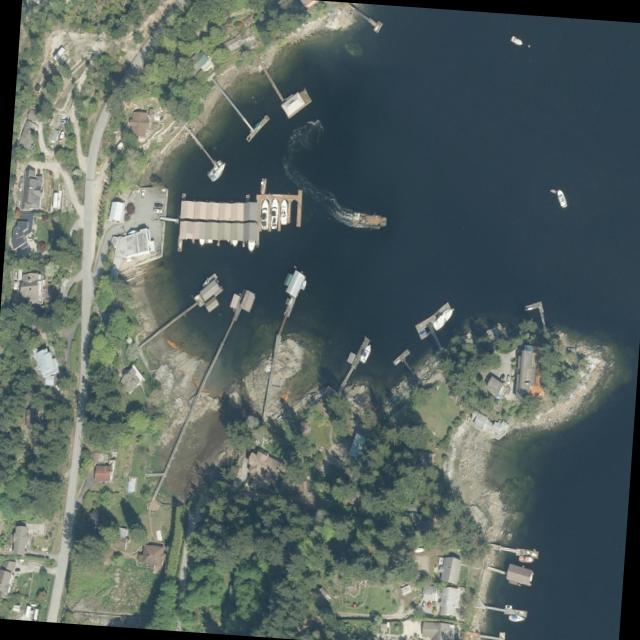ship: (431, 304, 457, 331), (351, 209, 388, 226), (208, 159, 227, 183), (200, 270, 218, 289), (359, 341, 373, 363), (270, 195, 278, 229), (261, 197, 269, 229), (556, 187, 568, 208), (231, 219, 240, 245), (247, 227, 256, 252), (280, 197, 288, 224), (509, 33, 524, 46), (508, 613, 525, 622), (199, 222, 205, 247), (260, 177, 267, 193), (299, 277, 307, 290), (58, 128, 65, 142), (519, 555, 533, 561), (414, 546, 424, 552), (549, 187, 557, 192), (505, 603, 512, 608)
small-vehicle: (54, 382, 63, 392), (152, 206, 162, 212), (499, 372, 505, 382), (60, 117, 69, 123), (421, 599, 426, 608), (506, 373, 511, 382), (154, 201, 163, 206), (409, 634, 416, 640), (96, 37, 103, 43), (141, 187, 145, 197), (403, 633, 407, 640), (15, 566, 20, 570), (427, 600, 430, 606)
